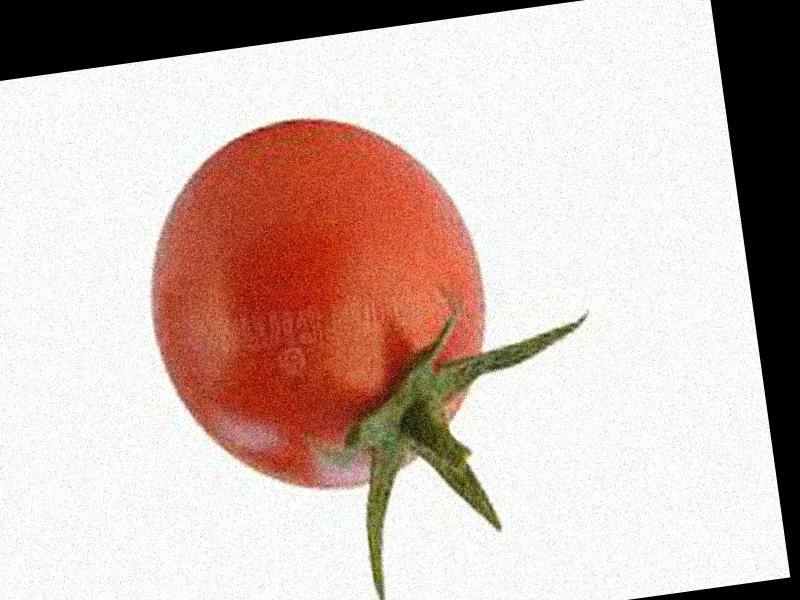Tomato: (127, 97, 503, 509)
